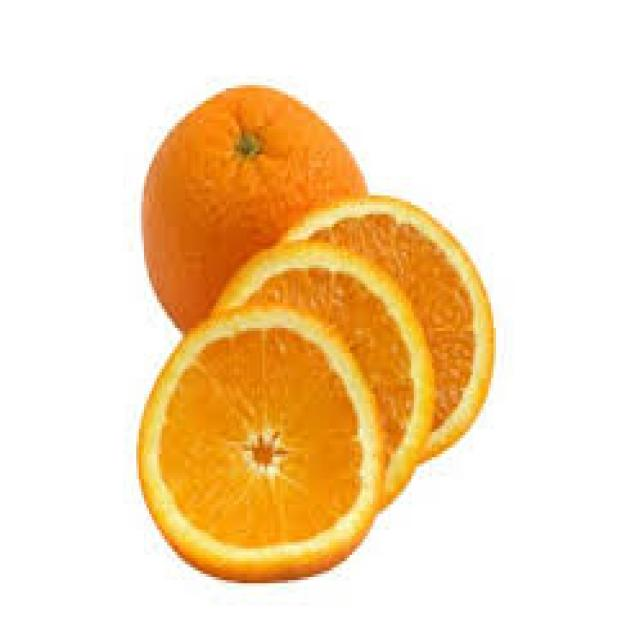organic waste: (134, 303, 383, 583), (208, 239, 434, 514), (272, 192, 493, 460), (138, 85, 368, 334)
